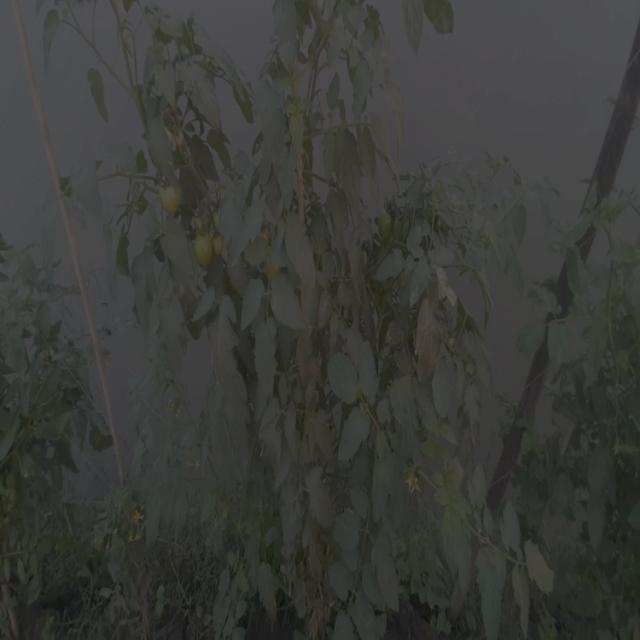tomato: (187, 235, 218, 268), (153, 183, 184, 215)
